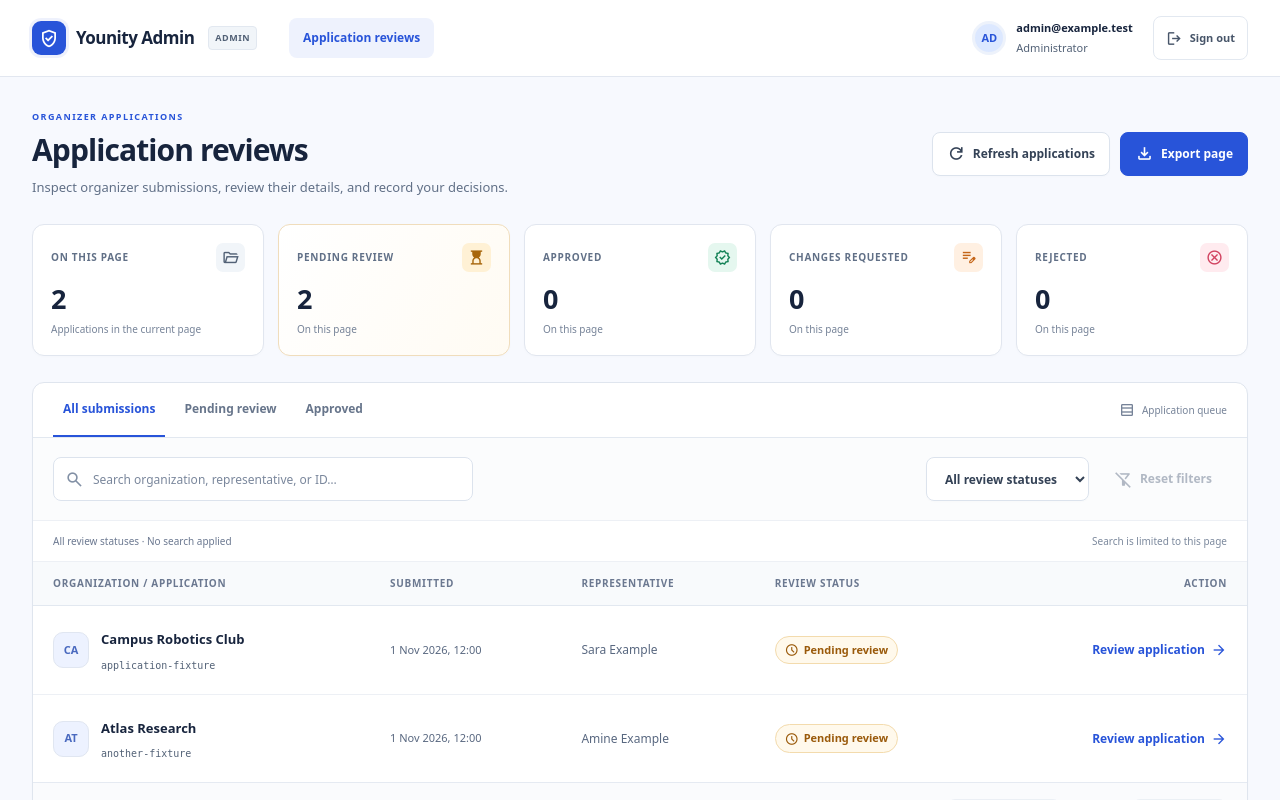
Test: application list › searches only the current page without requesting another API page and preserves the search through details
The width and height of the screenshot is (1280, 800).
Expected: the link "Atlas Research" is shown, 101,716 -> 196,742
Type "sara" into the search field named "Search this page" at coordinates (263, 480), box 53,458 -> 473,502
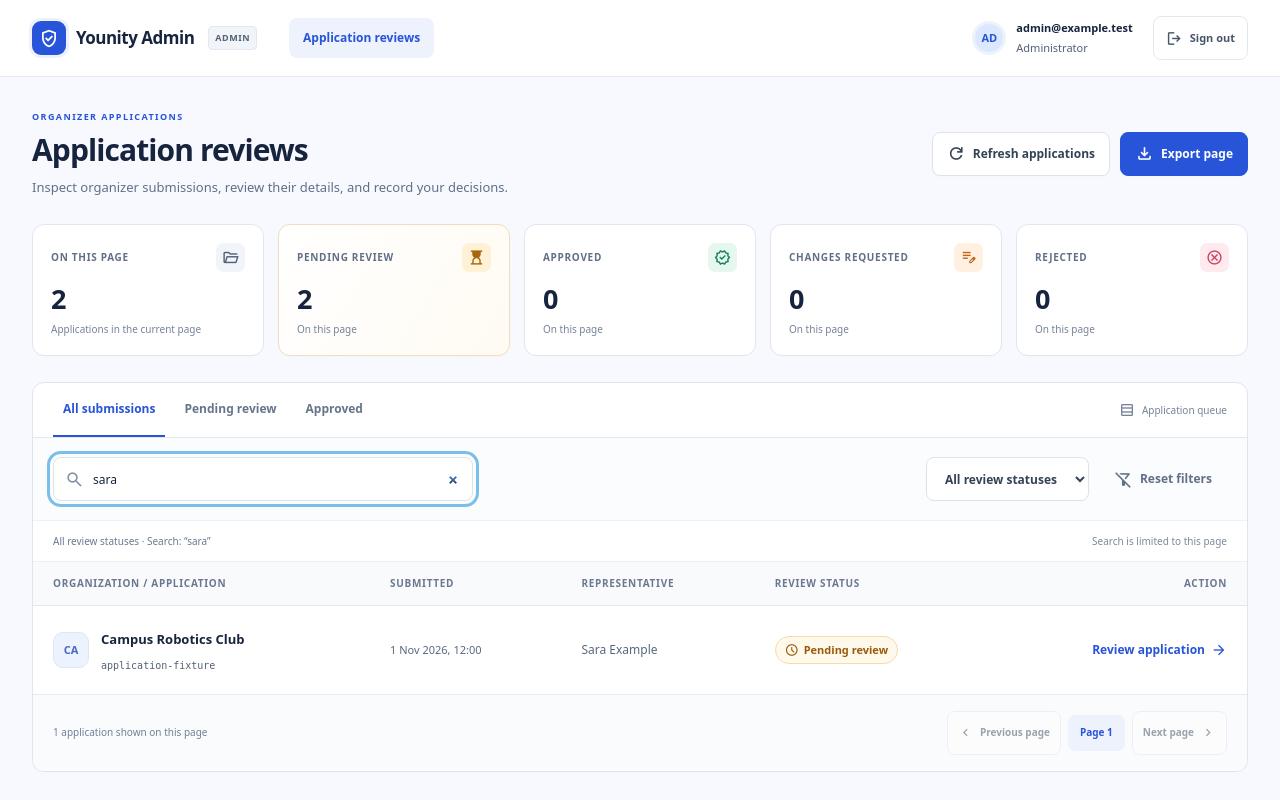
Result: the link "Atlas Research" is gone
Click the link "Campus Robotics Club" at coordinates (173, 640), box 101,628 -> 245,653
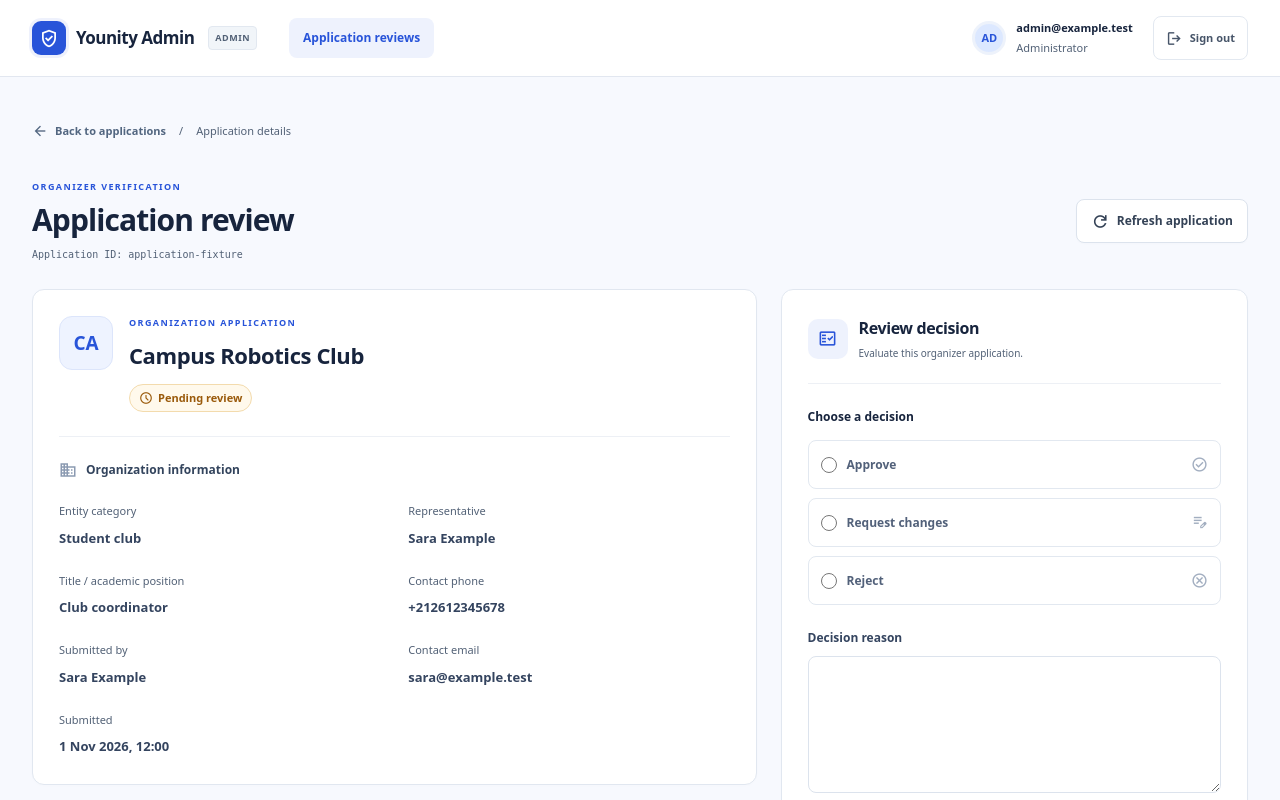
Click the link "Back to applications" at coordinates (99, 131), box 32,121 -> 166,141
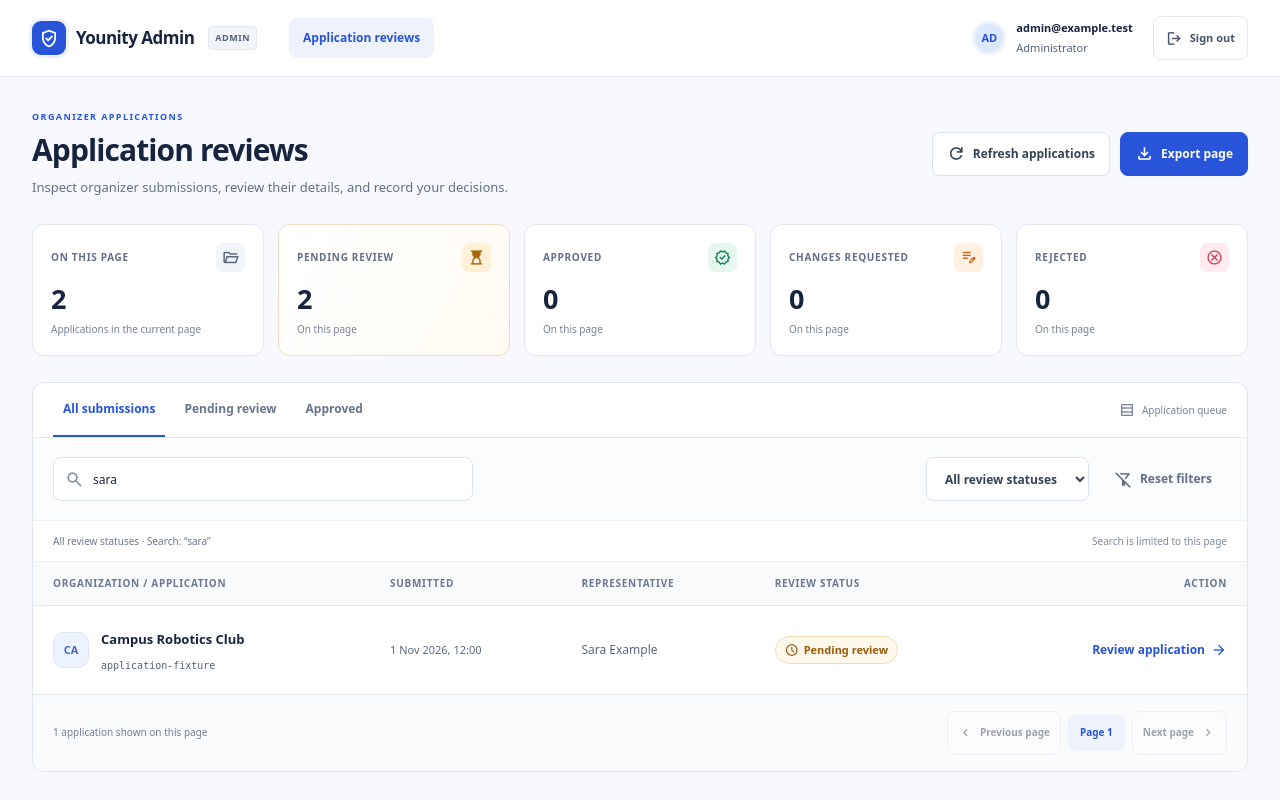
Result: the search field holds "sara" at 53,458 -> 473,502
Click the button "Reset filters" at coordinates (1163, 480), box 1099,458 -> 1227,502
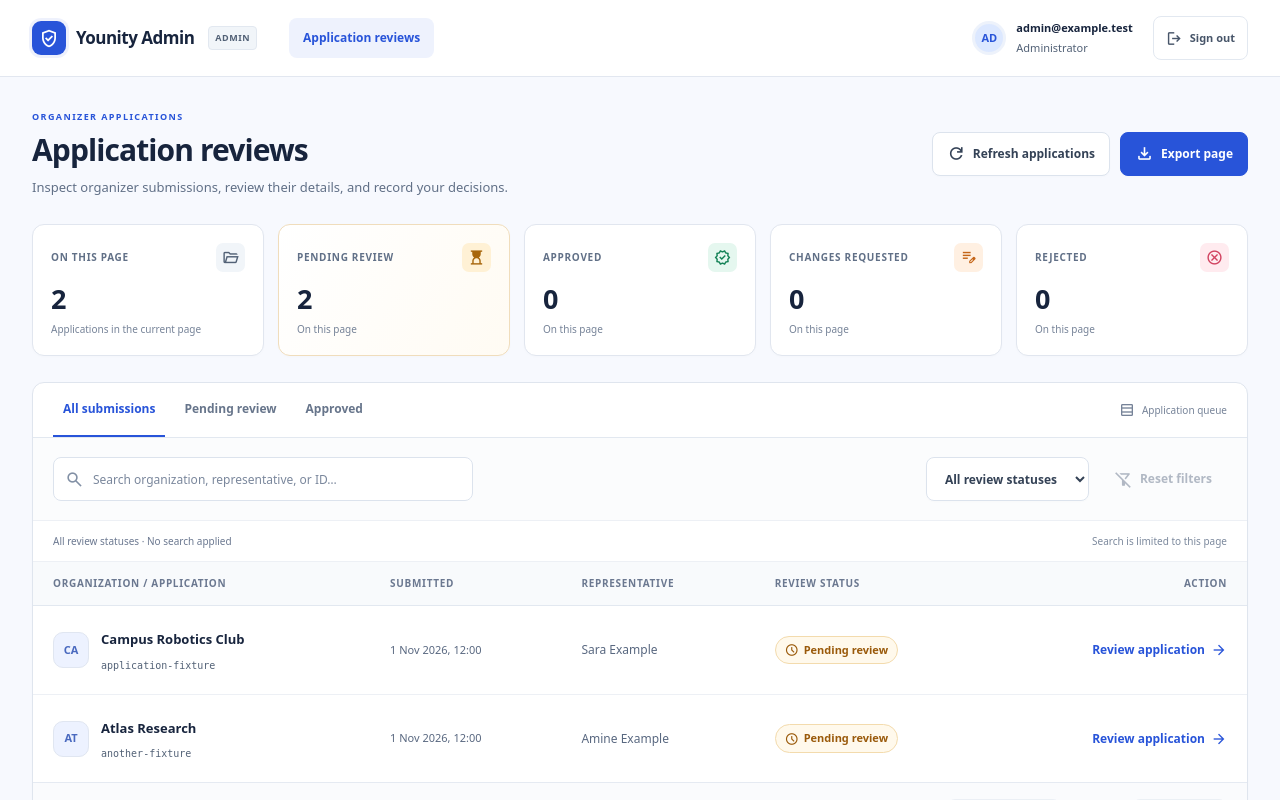
Result: the link "Atlas Research" is shown at 101,716 -> 196,742
